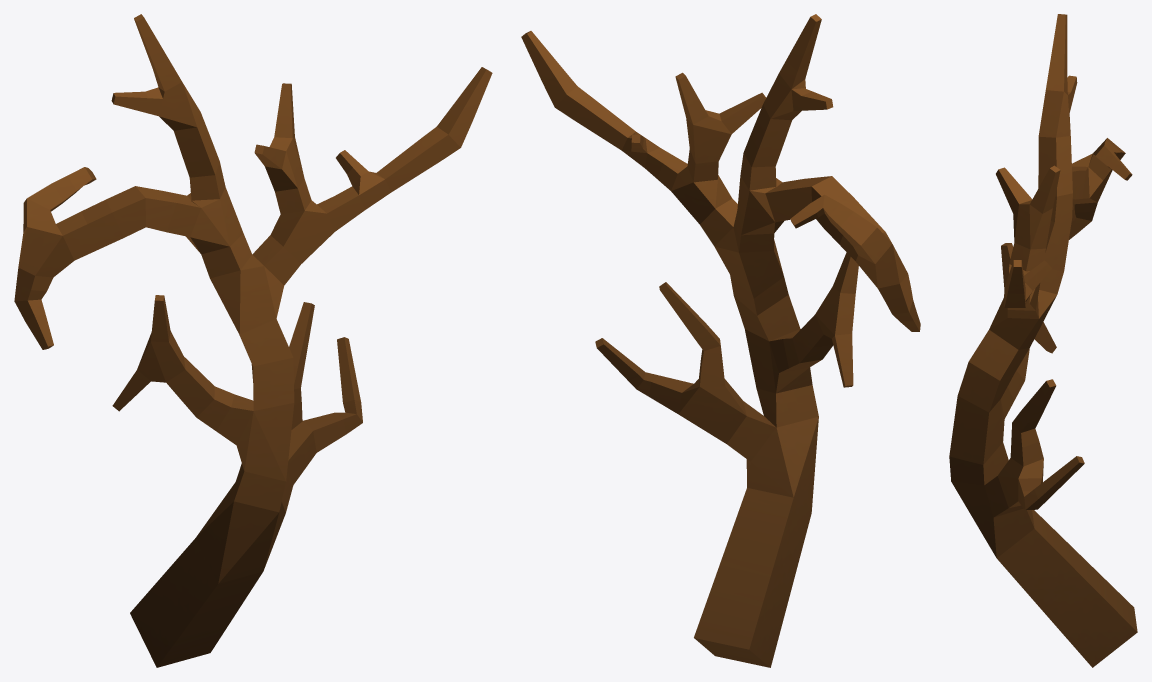
File: roots.glb
3 views of the same model, side by side, from view 1: azimuth 30°, elevation 25°; view 2: azimuth 150°, elevation 25°; view 3: azimuth 270°, elevation 25° (orthographic). The views are drawn at different scales.
Parts seen in each view (by area): view 1: Cube.016; view 2: Cube.016; view 3: Cube.016.
Boxes of the visible parts, bbox=[...] form: Cube.016: bbox=[14, 14, 492, 667]; Cube.016: bbox=[521, 14, 920, 667]; Cube.016: bbox=[949, 14, 1137, 667].
Size of the model in its own units: 2.21 by 3.24 by 0.8991.
Materials: 1 (1 with a texture image).
